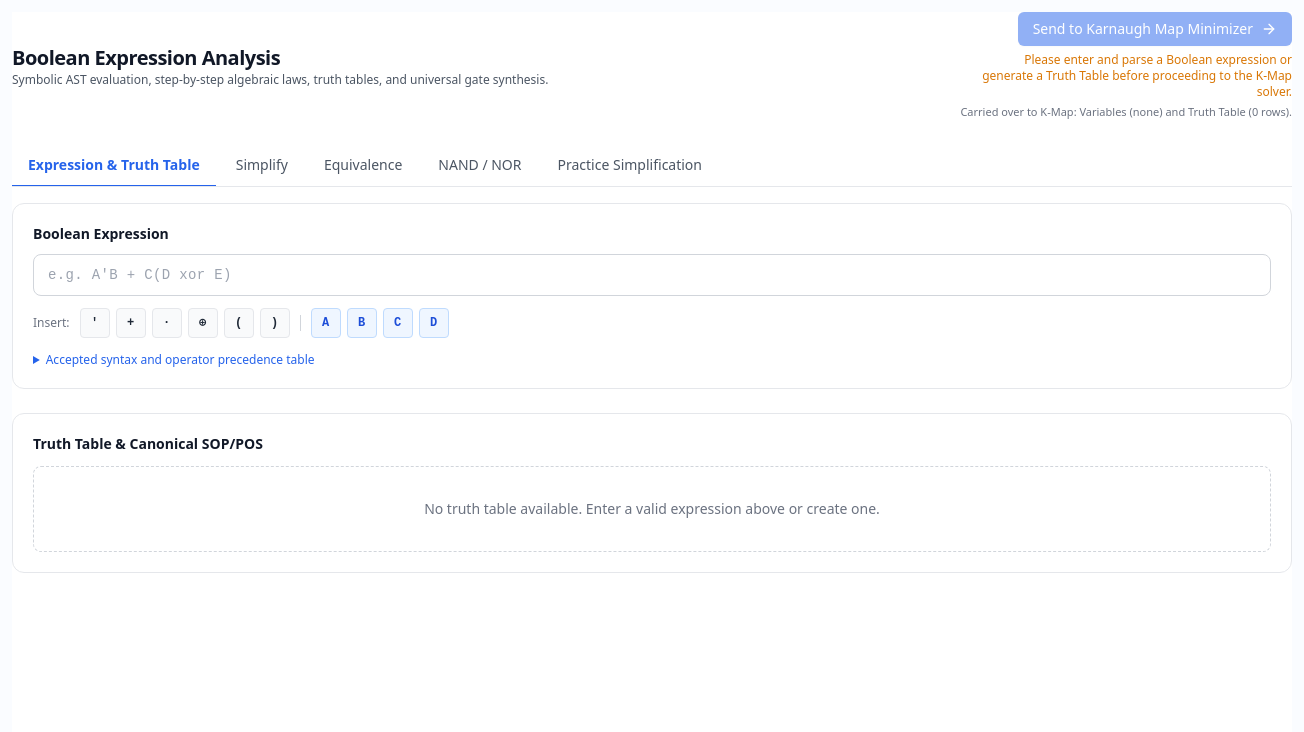
BooleanPage integration › blocks handoff and displays readable message for 6-variable expression
6 variables: A, B, C, D, E, F
Type "A + B + C + D + E + F" into the field labelled "Boolean Expression" at point(652, 274), box [33,254,1271,296]
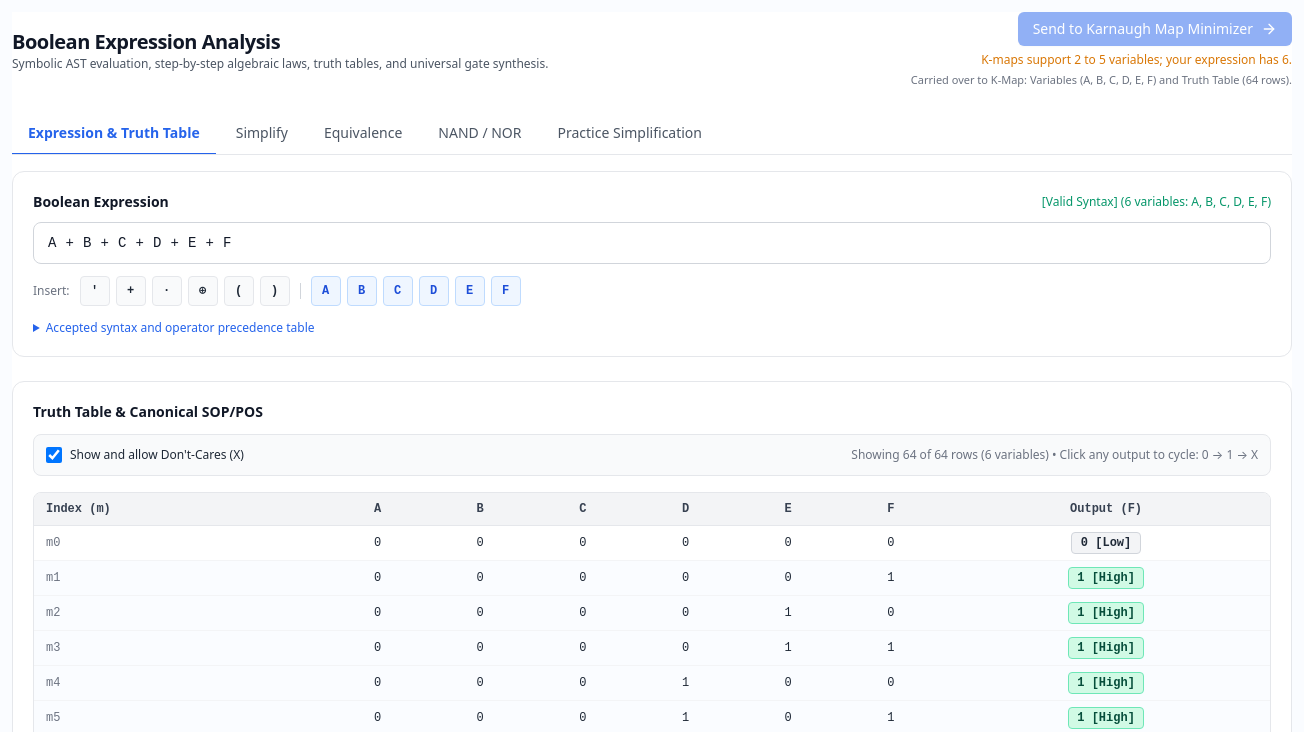
Check: the button "Send to Karnaugh Map Minimizer" is disabled, box [1018,12,1292,46]
Check: the text "K-maps support 2 to 5 variables; your expression has 6." is shown, box [981,52,1292,68]
